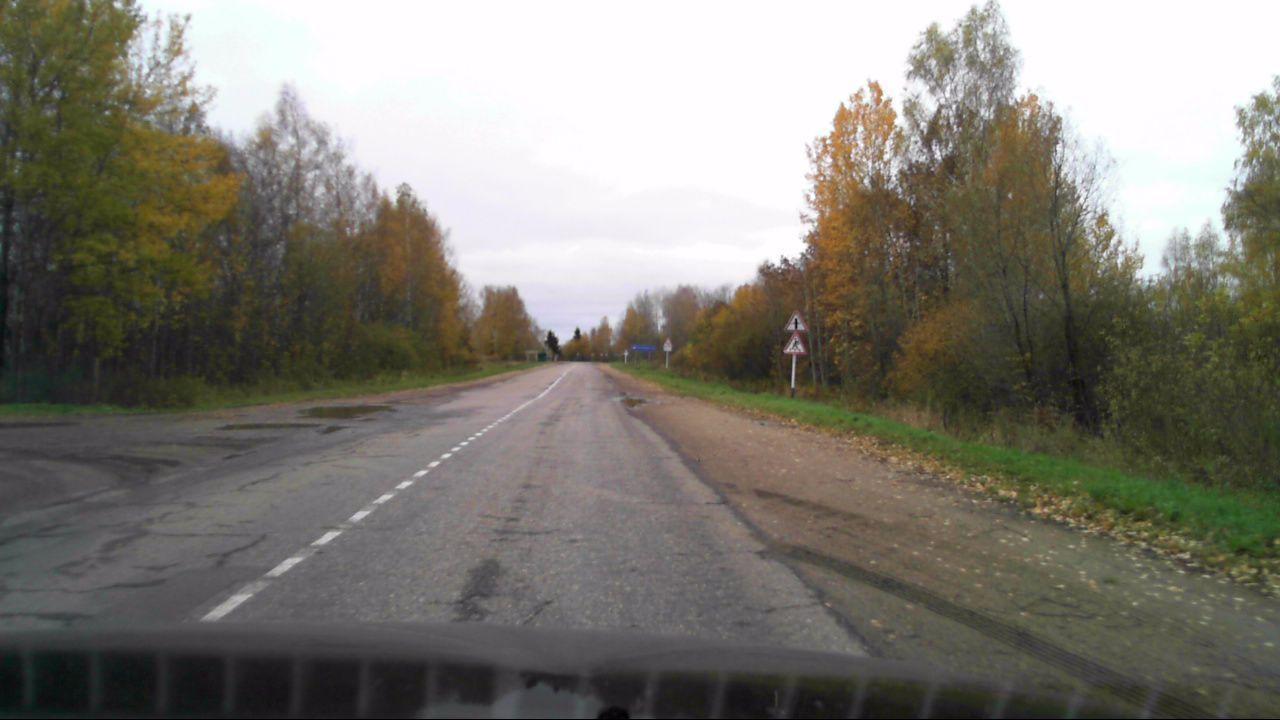1_22: (783, 333, 806, 354)
2_3_1: (784, 309, 808, 332)
